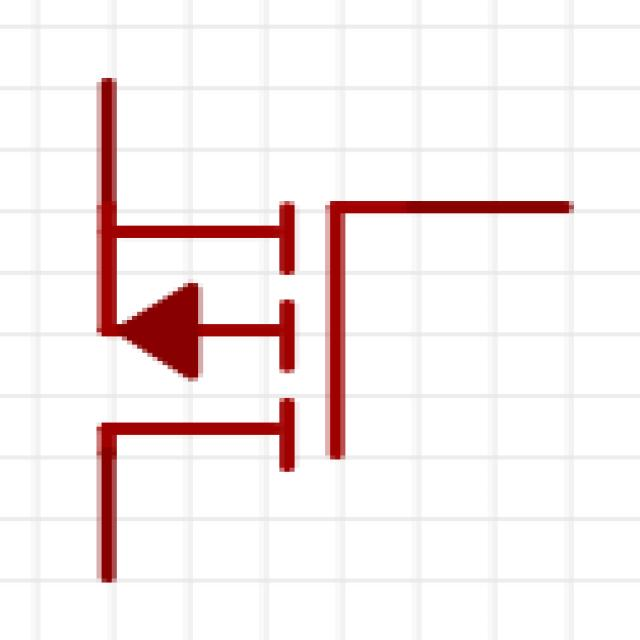pmos: (18, 83, 541, 602)
